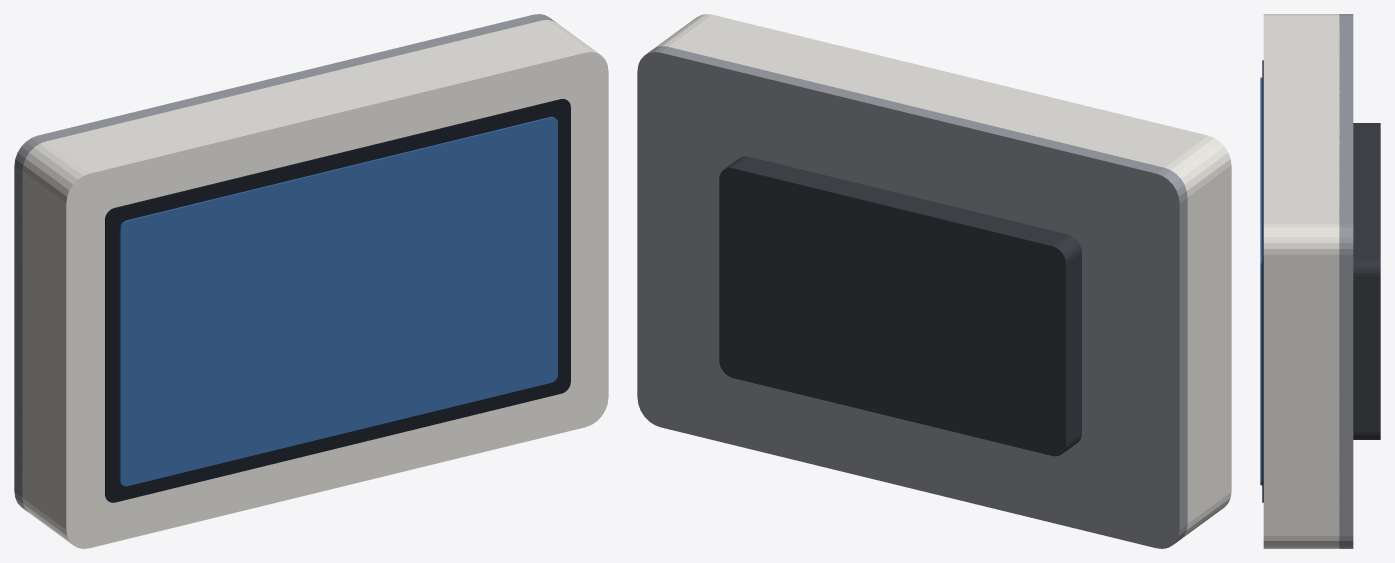
File: device.canary-display-dash.glb
3 renders of one model, left to right at view 1: azimuth 30°, elevation 25°; view 2: azimuth 150°, elevation 25°; view 3: azimuth 270°, elevation 25°, orthographic. The views are drawn at different scales.
Bounding box in the file's own units: 0.1181 × 0.078 × 0.0263.
